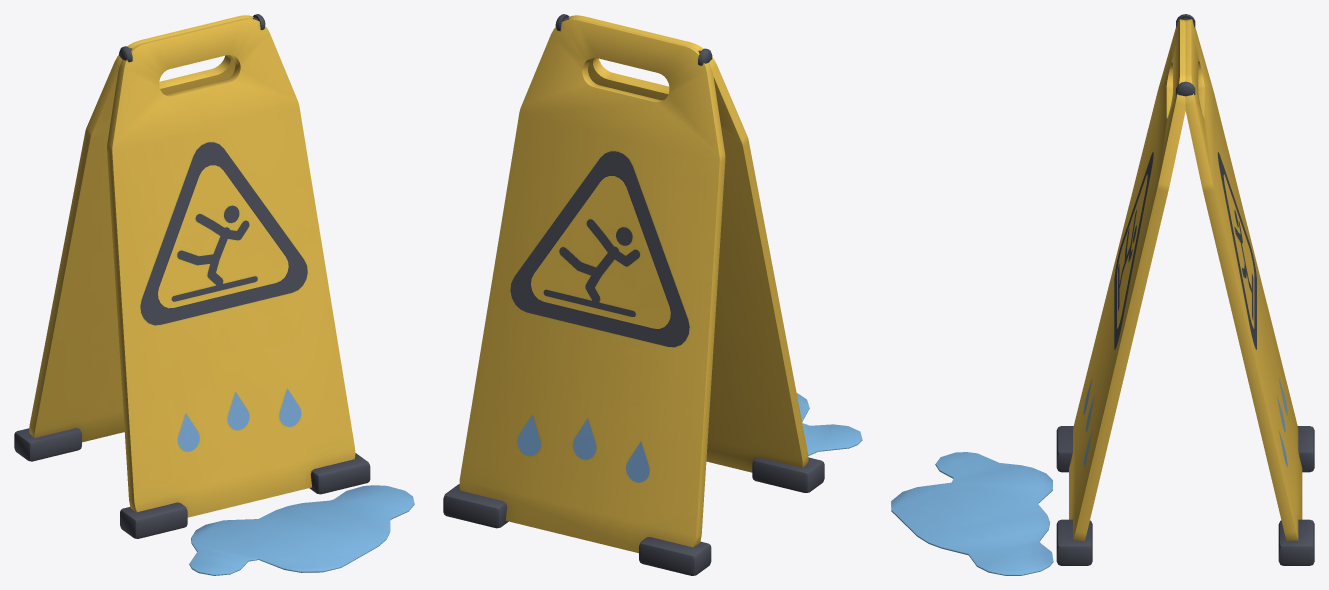
File: wet-floor-sign.fbx
3 renders of one model, left to right at view 1: azimuth 30°, elevation 25°; view 2: azimuth 150°, elevation 25°; view 3: azimuth 270°, elevation 25°, orthographic. The views are drawn at different scales.
Visible parts, largest first — view 1: wet-floor-sign_body; view 2: wet-floor-sign_body; view 3: wet-floor-sign_body.
Boxes of the visible parts, box(x1,y1,x2,y2) form: wet-floor-sign_body: box(14, 14, 414, 575); wet-floor-sign_body: box(443, 14, 862, 575); wet-floor-sign_body: box(891, 14, 1314, 575).
Size of the model in its own units: 0.374 by 0.6177 by 0.516.
1 material, 1 textured.
